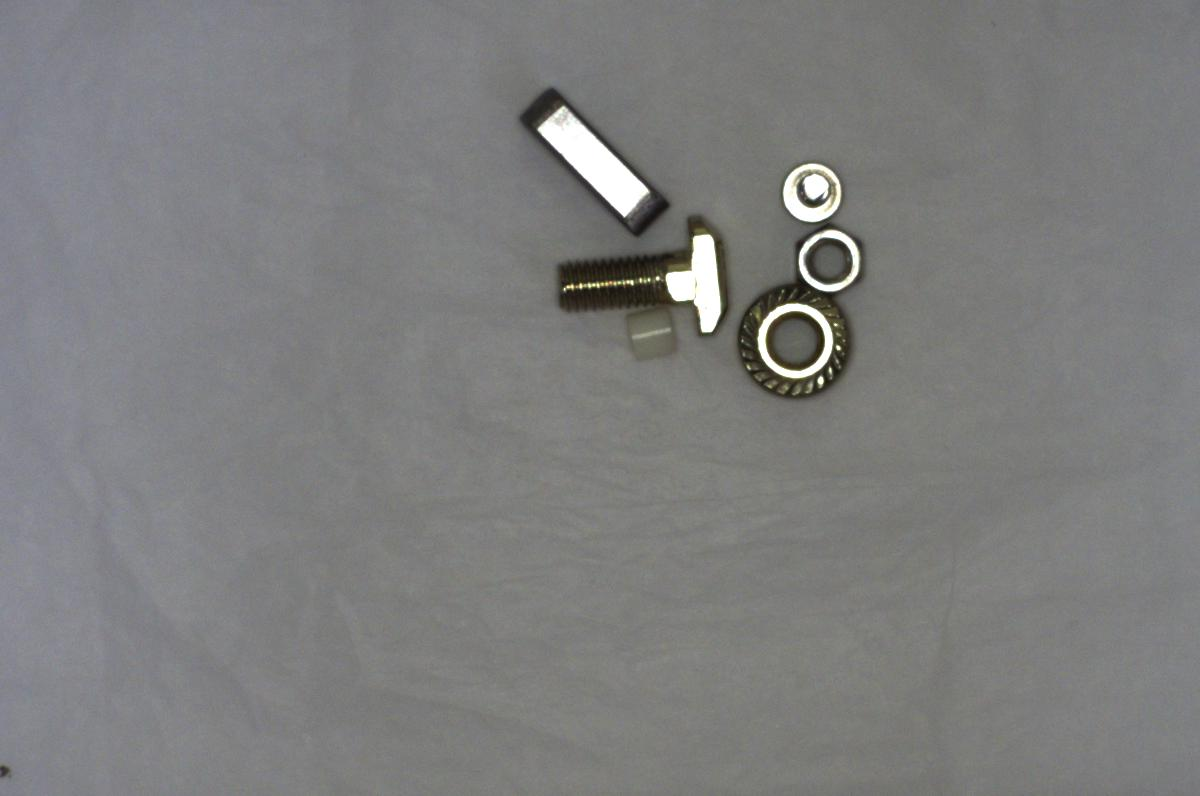Flange nut: (729, 272, 870, 403)
Hexagon nut: (794, 224, 867, 299)
Keybar: (506, 77, 670, 241)
Plastic cushion pillar: (615, 306, 688, 364)
Round head screw: (770, 155, 846, 232)
T-shaped screw: (548, 210, 739, 333)
